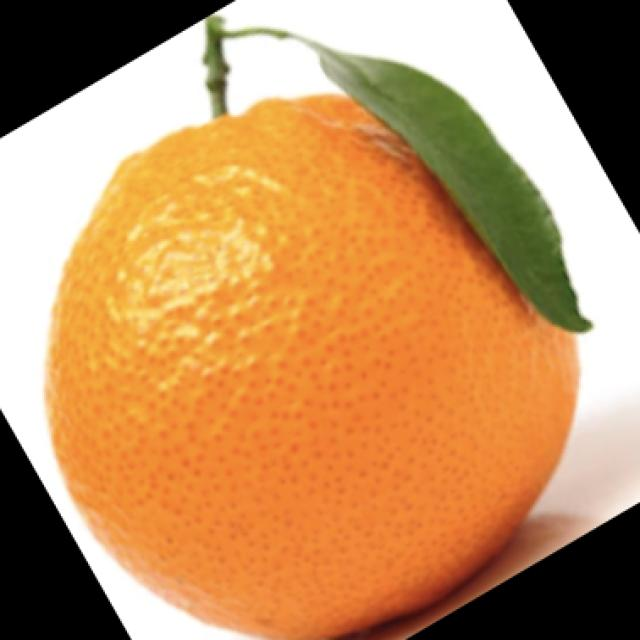matang: (47, 95, 577, 638)
